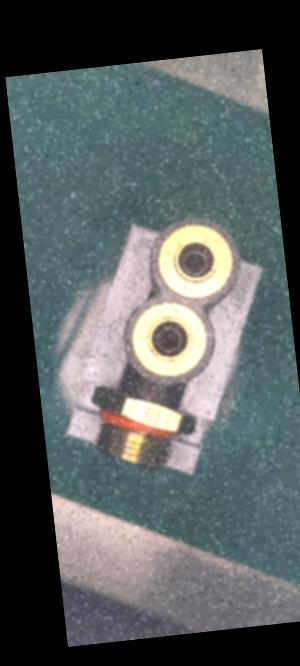craze: (142, 381, 156, 401)
